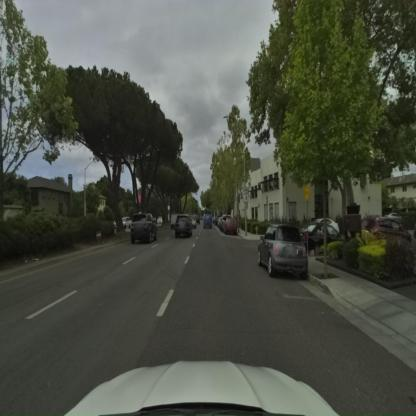car: (257, 224, 310, 279), (299, 208, 340, 249), (131, 214, 158, 244), (382, 204, 404, 232), (173, 215, 192, 238), (218, 215, 237, 234), (202, 215, 212, 229), (123, 218, 132, 230)
